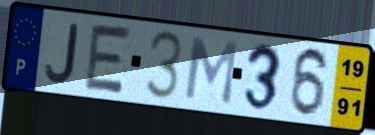3: (241, 40, 288, 114), (144, 28, 185, 103)
6: (289, 45, 334, 120)
E: (81, 21, 135, 97)
J: (43, 22, 80, 85)
M: (181, 34, 240, 108)
